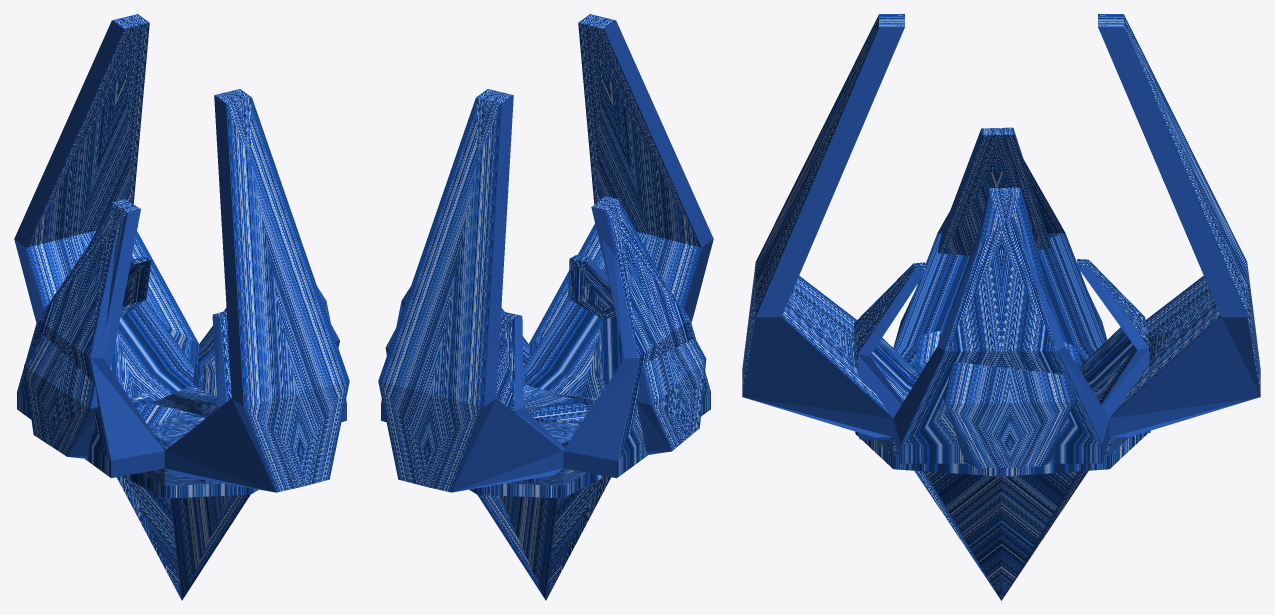
The model's file is laser2.DAE.
3 renders of one model, left to right at view 1: azimuth 30°, elevation 25°; view 2: azimuth 150°, elevation 25°; view 3: azimuth 270°, elevation 25°, orthographic. The views are drawn at different scales.
Parts seen in each view (by area): view 1: Box003, Box001; view 2: Box003, Box001; view 3: Box003, Box001.
Boxes of the visible parts, box(x1,y1,x2,y2) form: Box003: box(14, 14, 349, 600); Box001: box(24, 198, 339, 483); Box003: box(378, 14, 713, 600); Box001: box(385, 196, 706, 483); Box003: box(742, 14, 1260, 600); Box001: box(853, 127, 1150, 467).
Size of the model in its own units: 25.31 by 38.71 by 47.8.
Materials: 1 (1 with a texture image).
